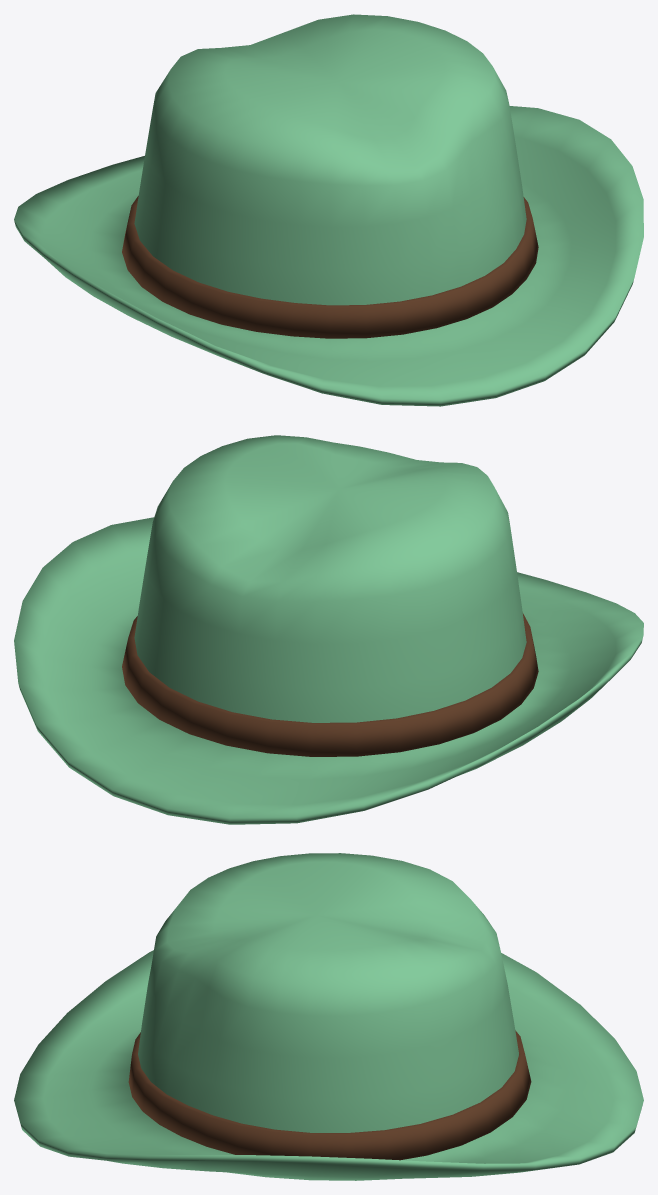
The model's file is gorro_vaquero.glb.
3 views of the same model, one above another, from view 1: azimuth 30°, elevation 25°; view 2: azimuth 150°, elevation 25°; view 3: azimuth 270°, elevation 25° (orthographic). The views are drawn at different scales.
Parts seen in each view (by area): view 1: pieza; view 2: pieza; view 3: pieza.
Boxes of the visible parts, box(x1,y1,x2,y2) form: pieza: box(14, 14, 643, 406); pieza: box(14, 435, 643, 824); pieza: box(14, 853, 643, 1180).
Size of the model in its own units: 1.6 by 0.5989 by 1.7.
